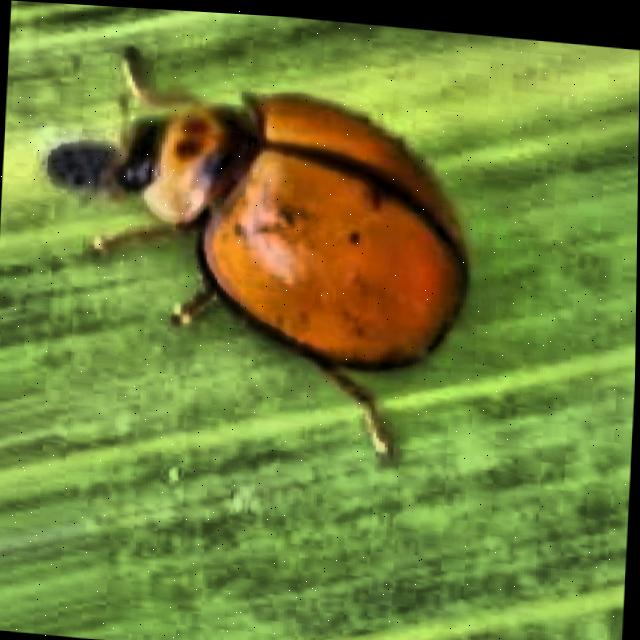Ladybug: (10, 15, 535, 462)
